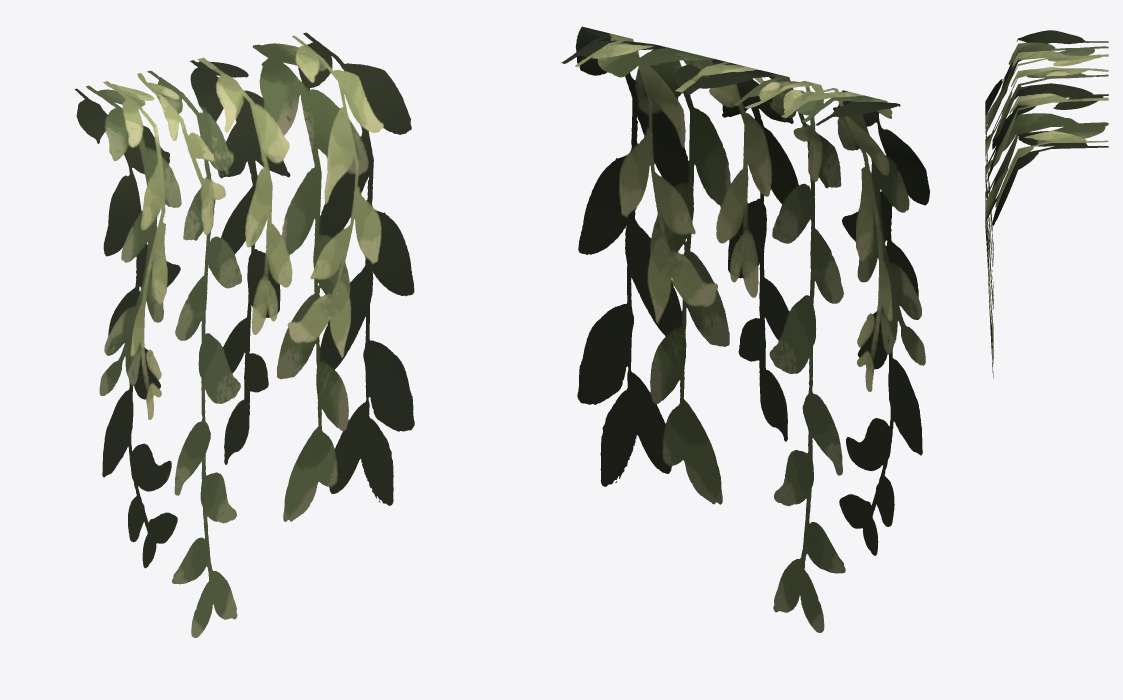
The model's file is Decal_Plant_2.FBX.
3 views of the same model, side by side, from view 1: azimuth 30°, elevation 25°; view 2: azimuth 150°, elevation 25°; view 3: azimuth 270°, elevation 25° (orthographic). The views are drawn at different scales.
Parts seen in each view (by area): view 1: Plane010; view 2: Plane010; view 3: Plane010.
Boxes of the visible parts, x1,y1,x2,y2 form: Plane010: (74, 32, 414, 637); Plane010: (561, 26, 929, 632); Plane010: (985, 30, 1108, 378).
Bounding box in the file's own units: 10.57 × 3.28 × 14.75.
